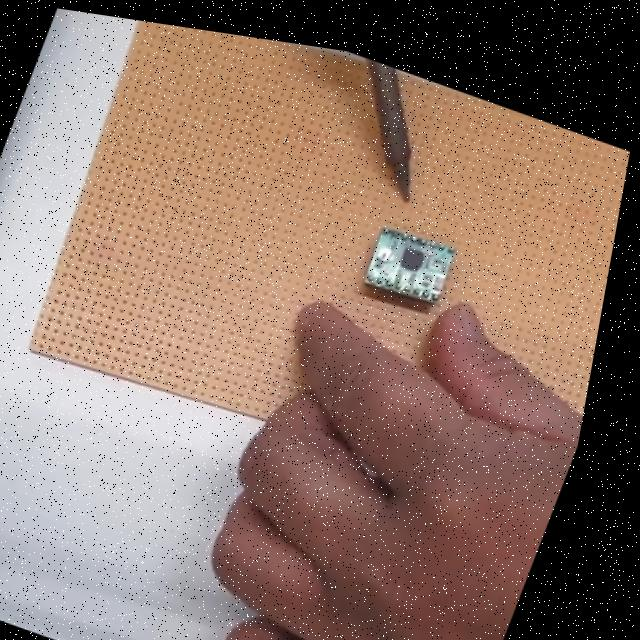Chip: (358, 222, 466, 313)
soldering_iron: (301, 48, 457, 204)
